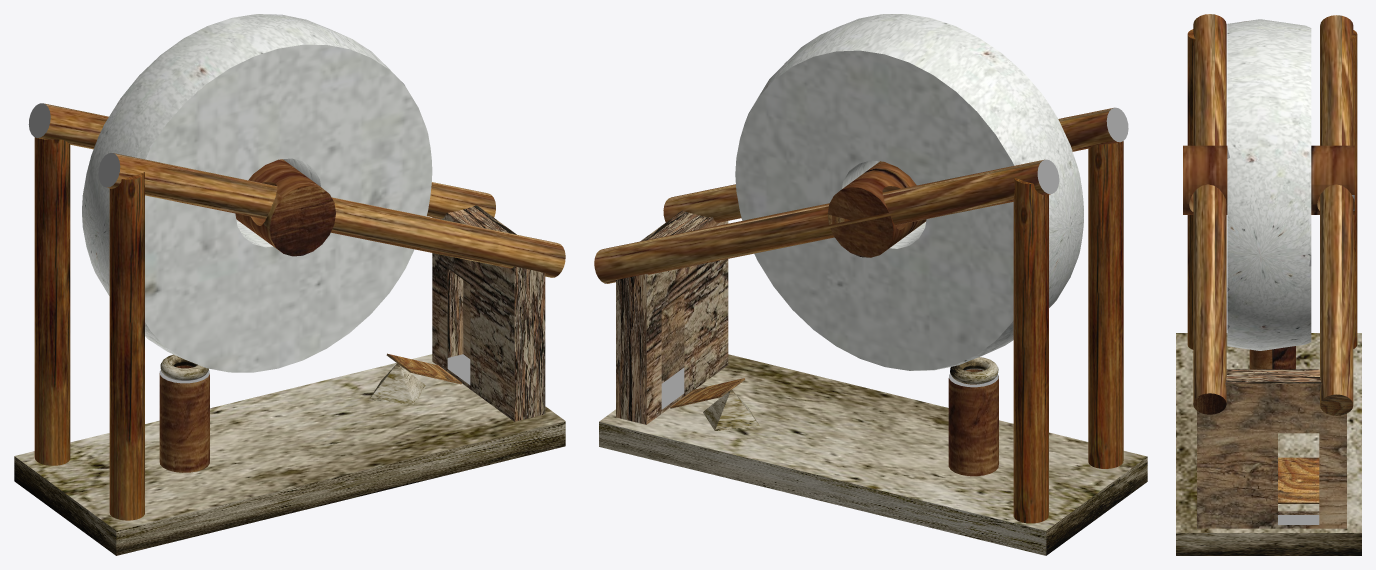
The model's file is sword_sharpener.fbx.
3 views of the same model, side by side, from view 1: azimuth 30°, elevation 25°; view 2: azimuth 150°, elevation 25°; view 3: azimuth 270°, elevation 25° (orthographic). The views are drawn at different scales.
Visible parts, largest first — view 1: polySurface4, pCube12, polySurface9, pCylinder1, pCylinder2, polySurface6, pPipe1, pPyramid1, pTorus1, pCube14; view 2: polySurface4, pCube12, polySurface9, pCylinder2, pCylinder1, polySurface6, pPipe1, pPyramid1, pTorus1, pCube14; view 3: polySurface9, polySurface4, pCube12, polySurface6, pCube14, pCylinder1, pCylinder2, pPipe1.
Part boxes in pixels (<box>): polySurface4: <box>82,14,432,372</box>; pCube12: <box>14,354,565,555</box>; polySurface9: <box>28,103,565,421</box>; pCylinder1: <box>109,172,144,520</box>; pCylinder2: <box>34,137,70,465</box>; polySurface6: <box>235,159,335,256</box>; pPipe1: <box>159,365,209,472</box>; pPyramid1: <box>369,363,425,404</box>; pTorus1: <box>160,354,208,380</box>; pCube14: <box>386,353,461,384</box>; polySurface4: <box>735,14,1083,370</box>; pCube12: <box>599,354,1147,555</box>; polySurface9: <box>594,107,1128,424</box>; pCylinder2: <box>1013,177,1048,523</box>; pCylinder1: <box>1088,141,1123,468</box>; polySurface6: <box>827,161,926,257</box>; pPipe1: <box>948,369,998,476</box>; pPyramid1: <box>703,390,759,430</box>; pTorus1: <box>950,357,998,384</box>; pCube14: <box>670,378,744,408</box>; polySurface9: <box>1193,14,1353,528</box>; polySurface4: <box>1227,19,1311,350</box>; pCube12: <box>1176,333,1361,555</box>; polySurface6: <box>1183,145,1354,214</box>; pCube14: <box>1278,457,1319,503</box>; pCylinder1: <box>1187,29,1195,349</box>; pCylinder2: <box>1350,30,1357,348</box>; pPipe1: <box>1249,346,1295,369</box>.
Size of the model in its own units: 42.09 by 38.69 by 16.06.
